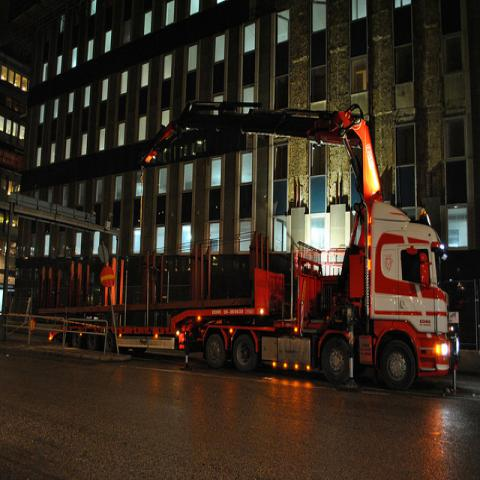truck: (172, 200, 456, 401)
